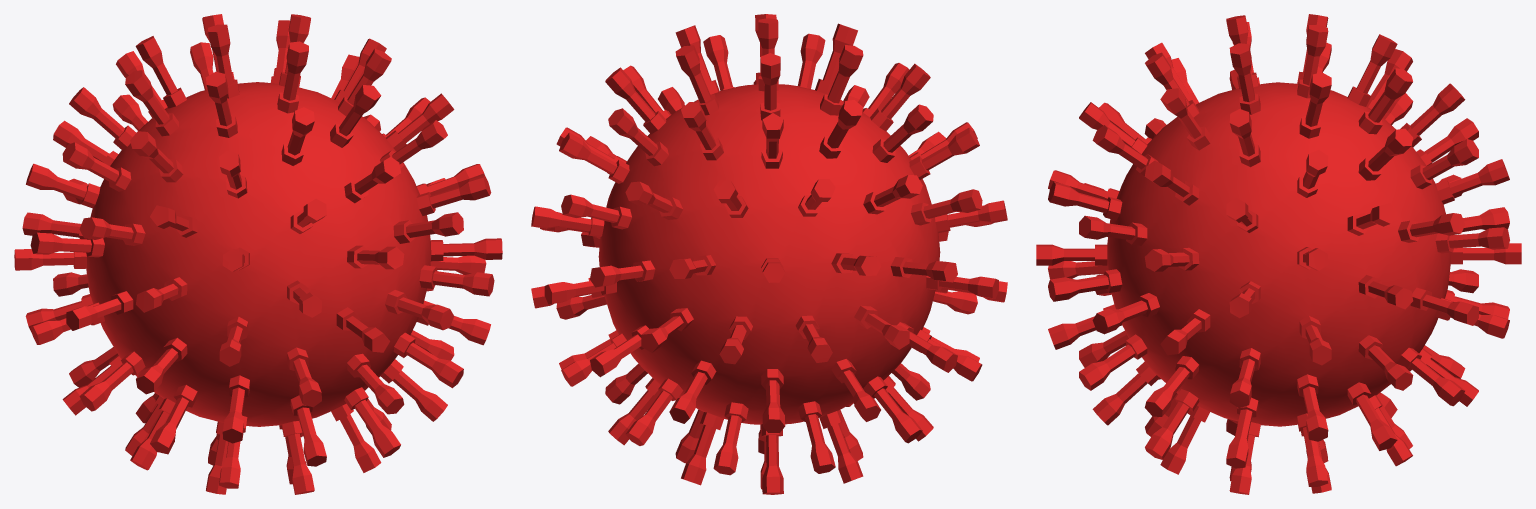
Rendered from rotavirus.fbx.
3 renders of one model, left to right at view 1: azimuth 30°, elevation 25°; view 2: azimuth 150°, elevation 25°; view 3: azimuth 270°, elevation 25°, orthographic.
Parts seen in each view (by area): view 1: GeoSphere001; view 2: GeoSphere001; view 3: GeoSphere001.
Part boxes in pixels (left/top/right/bottom): GeoSphere001: left=14, top=14, right=502, bottom=494; GeoSphere001: left=531, top=14, right=1007, bottom=494; GeoSphere001: left=1036, top=14, right=1521, bottom=494.
Size of the model in its own units: 127 by 127 by 128.
